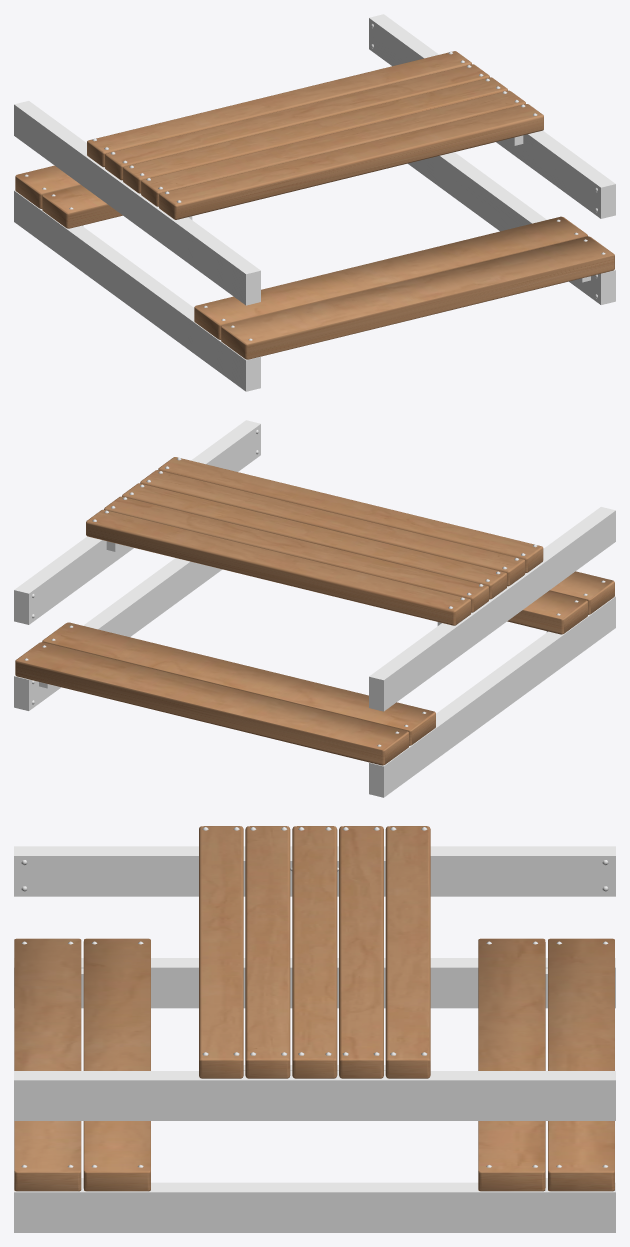
3 views of the same model, one above another, from view 1: azimuth 30°, elevation 25°; view 2: azimuth 150°, elevation 25°; view 3: azimuth 270°, elevation 25° (orthographic). The views are drawn at different scales.
Visible parts, largest first — view 1: Icosphere006_2, Icosphere006_1,_colorize_; view 2: Icosphere006_2, Icosphere006_1,_colorize_; view 3: Icosphere006_2, Icosphere006_1,_colorize_, Icosphere006.
Boxes of the visible parts, left/top/right/bottom form: Icosphere006_2: left=15, top=51, right=614, bottom=359; Icosphere006_1,_colorize_: left=14, top=14, right=615, bottom=391; Icosphere006_2: left=15, top=457, right=614, bottom=765; Icosphere006_1,_colorize_: left=14, top=420, right=615, bottom=797; Icosphere006_2: left=14, top=826, right=614, bottom=1191; Icosphere006_1,_colorize_: left=14, top=846, right=615, bottom=1232; Icosphere006: left=21, top=827, right=608, bottom=1167.
Bounding box in the file's own units: 1.26 × 0.4408 × 1.36.
Materials: 3 (1 with a texture image).
